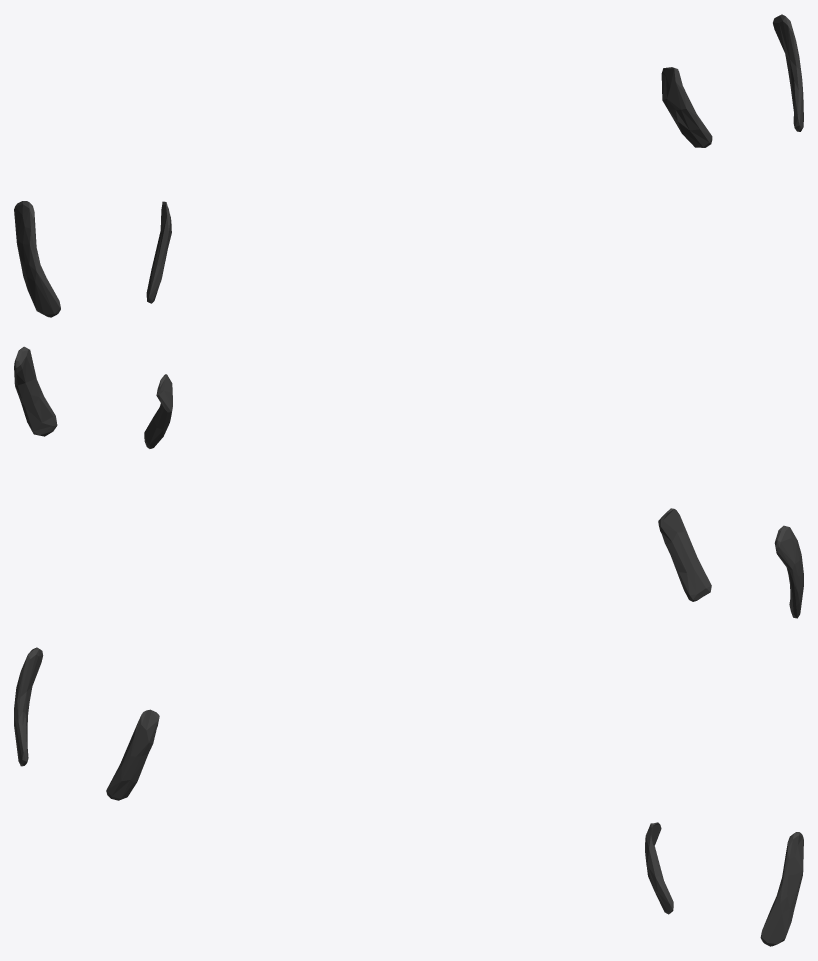
The model's file is lig_collateral_fetlock_HL.glb.
3 renders of one model, top to bottom at view 1: azimuth 30°, elevation 25°; view 2: azimuth 150°, elevation 25°; view 3: azimuth 330°, elevation 25°, orthographic.
Parts seen in each view (by area): view 1: lig_collateral_fetlock_HL; view 2: lig_collateral_fetlock_HL; view 3: lig_collateral_fetlock_HL.
Part boxes in pixels (left/top/right/bottom): lig_collateral_fetlock_HL: left=14, top=14, right=803, bottom=317; lig_collateral_fetlock_HL: left=14, top=346, right=803, bottom=618; lig_collateral_fetlock_HL: left=14, top=647, right=803, bottom=946.
Bounding box in the file's own units: 0.00559 × 0.000774 × 0.000468.
1 material, 1 textured.
